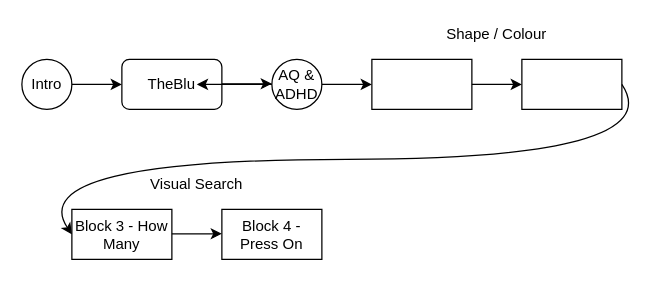
The diagram is 651 pixels wide and 281 high, and some of its shapes have lost their labels. The centre of each missing label's shape, as x and y in pixels:
Block 1 - 2D: point (421, 83)
Block 2 - 3D: point (571, 83)
